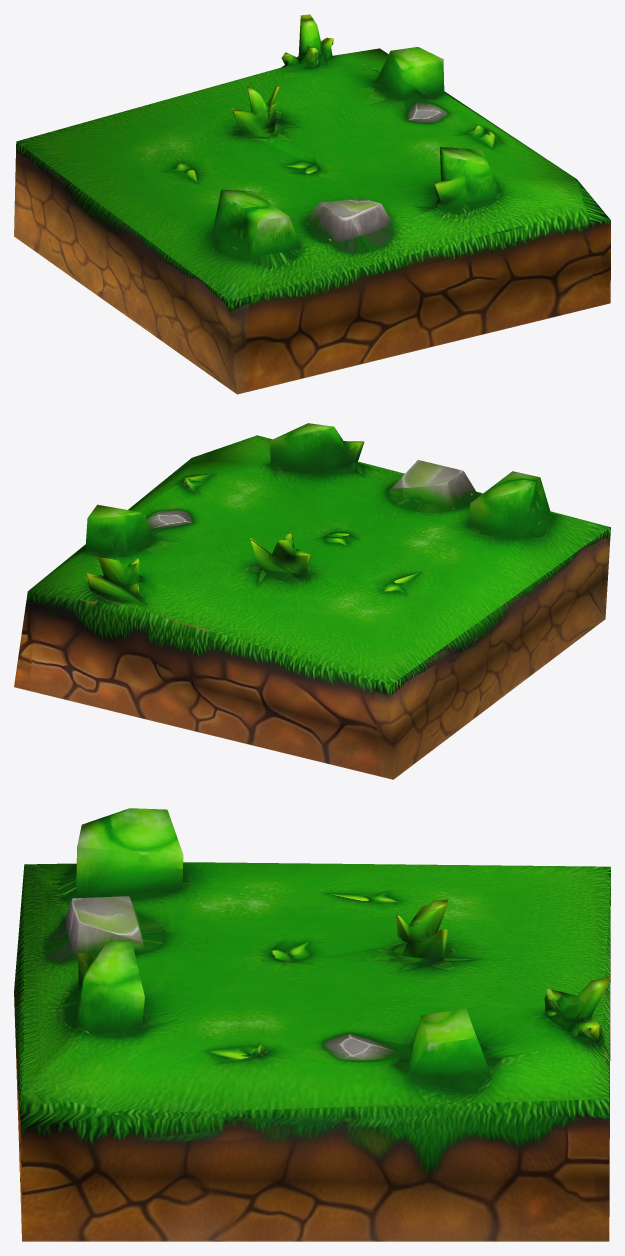
File: gnd_grass.glb
The picture shows the model from 3 angles, top to bottom: view 1: azimuth 30°, elevation 25°; view 2: azimuth 150°, elevation 25°; view 3: azimuth 270°, elevation 25°; orthographic projection. The views are drawn at different scales.
Size of the model in its own units: 1.81 by 0.7099 by 1.8.
Materials: 1 (1 with a texture image).
